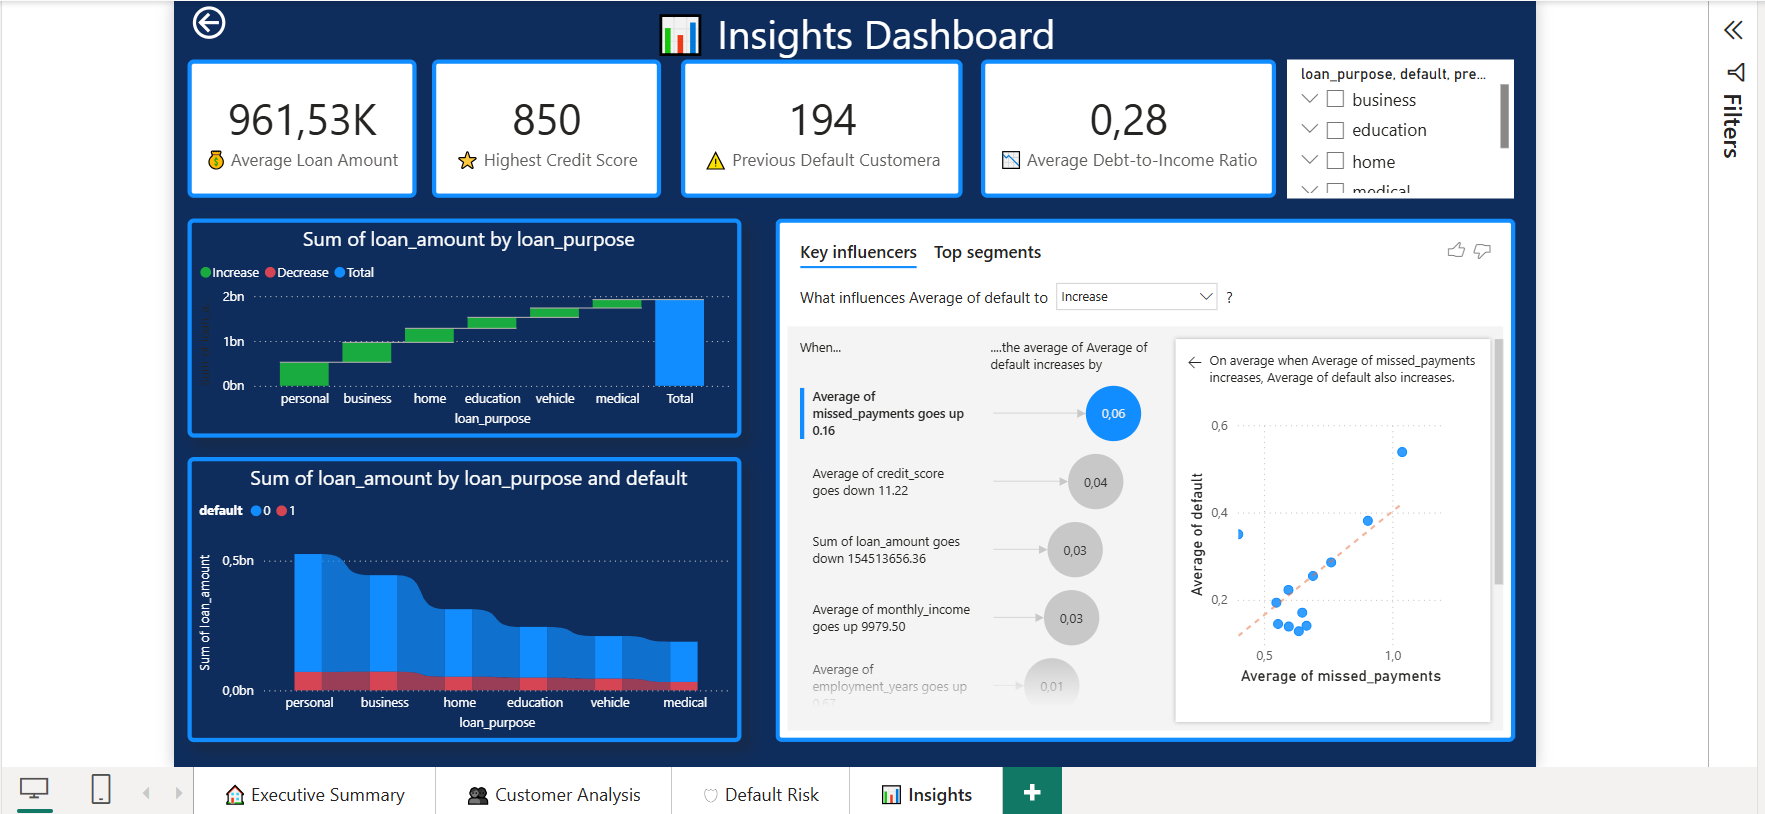

What the dashboard file says about the page in this screenshot:
{"tool":"powerbi","page":{"name":"📊 Insights","canvas":[1280,720],"ordinal":3},"visuals":[{"type":"card","fields":{"Values":["Avg(loan_data.loan_amount)"]},"box":[12.1,54.5,215,130.2],"z":0},{"type":"card","fields":{"Values":["Max(loan_data.credit_score)"]},"box":[242.3,54.5,215,130.2],"z":1000},{"type":"card","fields":{"Values":["Avg(loan_data.debt_to_income)"]},"box":[758.6,54.5,277.1,130.2],"z":2000},{"type":"card","fields":{"Values":["loan_data.Previous Default Customers"]},"box":[477,54.5,265,130.2],"z":3000},{"type":"waterfallChart","fields":{"Category":["loan_data.loan_purpose"],"Y":["Sum(loan_data.loan_amount)"]},"box":[12.1,204.4,520.9,205.9],"z":4000},{"type":"keyDriversVisual","fields":{"Target":["loan_data.default"],"ExplainBy":["loan_data.loan_purpose","Sum(loan_data.default)","loan_data.previous_default","Avg(loan_data.age)","Avg(loan_data.credit_score)","Avg(loan_data.monthly_income)","Avg(loan_data.employment_years)","Avg(loan_data.debt_to_income)","Avg(loan_data.missed_payments)","Sum(loan_data.loan_amount)"]},"box":[564.8,204.4,695,492.1],"z":5000},{"type":"ribbonChart","fields":{"Category":["loan_data.loan_purpose"],"Y":["Sum(loan_data.loan_amount)"],"Series":["loan_data.default"]},"box":[12.1,428.5,520.9,268],"z":6000},{"type":"slicer","fields":{"Values":["loan_data.loan_purpose","loan_data.default","loan_data.previous_default","loan_data.age","loan_data.credit_score"]},"box":[1046.3,54.5,213.5,130.2],"z":7000},{"type":"textbox","box":[0,0,1280.1,68.8],"z":8000},{"type":"actionButton","box":[12.5,0,100,40.6],"z":8001}]}

Visuals, with their boxes in screenshot pixels (x1, y1, x2, y2):
card - Avg(loan_data.loan_amount): <box>169,49,400,189</box>
card - Max(loan_data.credit_score): <box>417,49,648,189</box>
card - Avg(loan_data.debt_to_income): <box>972,49,1269,189</box>
card - loan_data.Previous Default Customers: <box>669,49,954,189</box>
waterfallChart - loan_data.loan_purpose x Sum(loan_data.loan_amount): <box>169,211,729,432</box>
keyDriversVisual - loan_data.default x loan_data.loan_purpose: <box>763,211,1510,739</box>
ribbonChart - loan_data.loan_purpose x Sum(loan_data.loan_amount): <box>169,451,729,739</box>
slicer - loan_data.loan_purpose x loan_data.default: <box>1281,49,1510,189</box>
textbox: <box>156,0,1532,65</box>
actionButton: <box>170,0,277,34</box>
